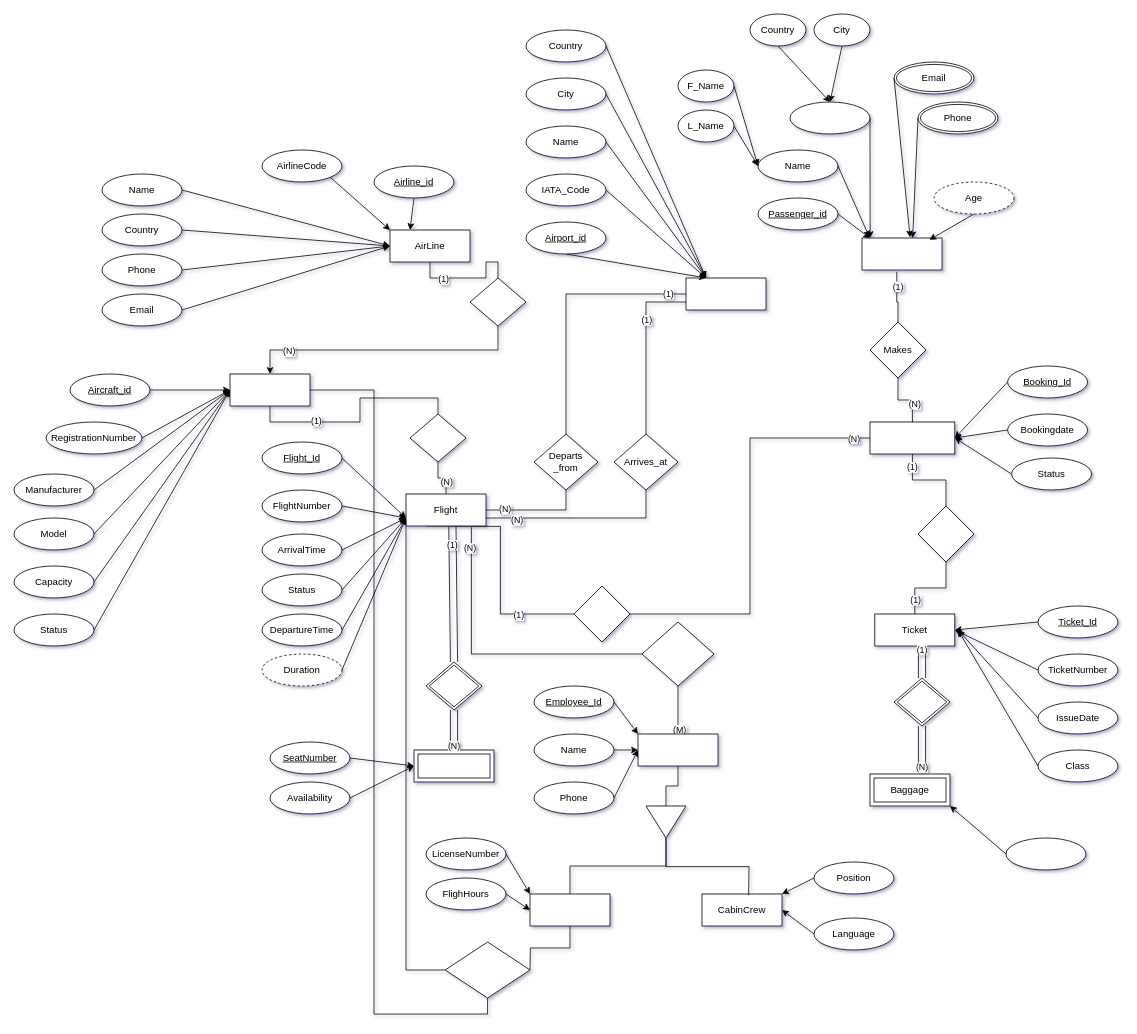
The diagram is 1137 pixels wide and 1034 high, and some of its shapes have lost their labels. Each missing label, with the box of its shape:
Address: (789, 101, 870, 134)
Aircraft: (229, 373, 310, 406)
Airport: (685, 277, 766, 310)
Assigned_Pilot: (444, 941, 530, 998)
BagNumber: (1005, 837, 1086, 870)
Booking: (869, 421, 955, 454)
Contains: (425, 661, 482, 710)
Employee: (637, 733, 718, 766)
Generates: (917, 505, 974, 562)
Has: (573, 585, 630, 642)
Includes: (893, 677, 950, 726)
ISA: (645, 805, 686, 838)
Operates: (409, 413, 466, 462)
owns: (469, 277, 526, 326)
Passenger: (861, 237, 942, 270)
Pilot: (529, 893, 610, 926)
Seat: (413, 749, 494, 782)
Work_On: (641, 621, 714, 686)
